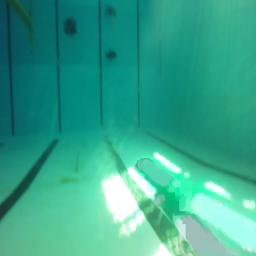Full: (105, 50, 117, 60), (64, 26, 78, 34)
